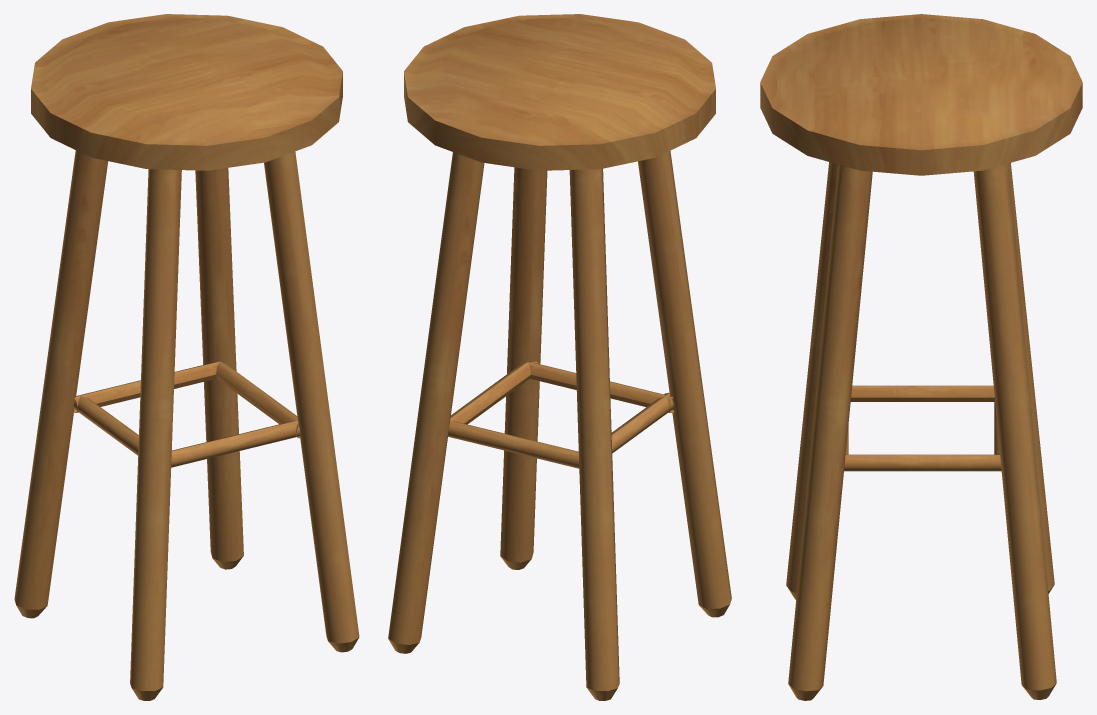
Rendered from Cadeira Balcao.FBX.
3 views of the same model, side by side, from view 1: azimuth 30°, elevation 25°; view 2: azimuth 150°, elevation 25°; view 3: azimuth 270°, elevation 25° (orthographic). The views are drawn at different scales.
Visible parts, largest first — view 1: Cadeira Balcao; view 2: Cadeira Balcao; view 3: Cadeira Balcao.
Part boxes in pixels (box(x1,y1,x2,y2)): Cadeira Balcao: box(14, 14, 359, 700); Cadeira Balcao: box(388, 14, 731, 700); Cadeira Balcao: box(760, 14, 1082, 700).
Size of the model in its own units: 36.52 by 72.25 by 36.52.
